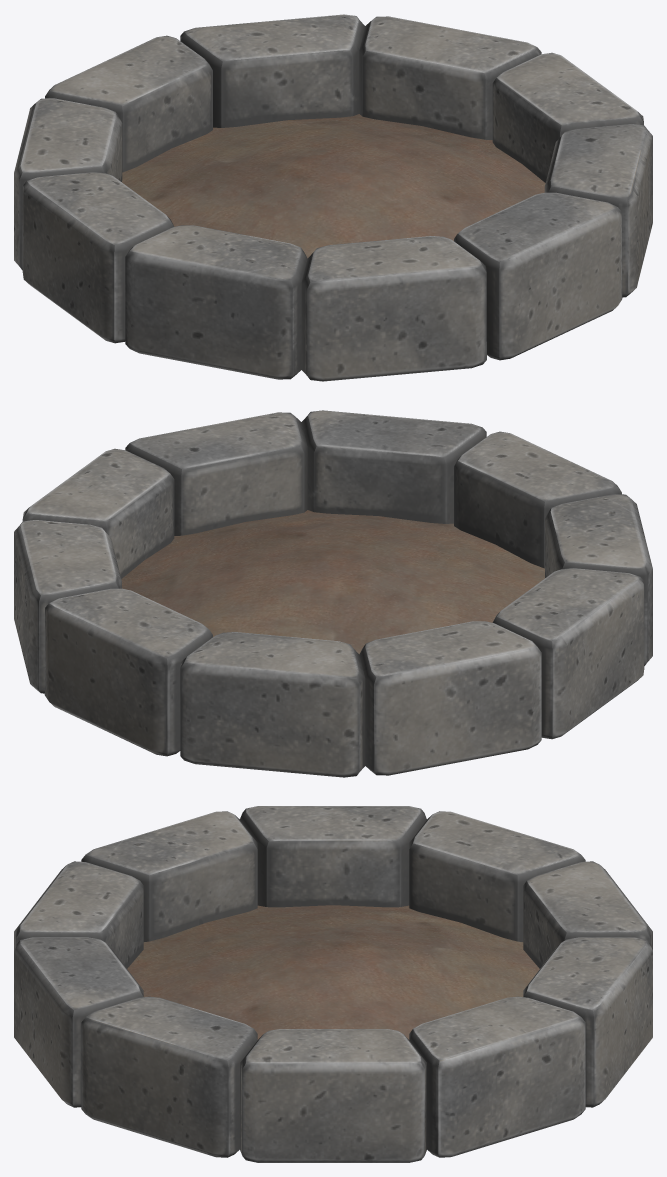
The model's file is SM_Garden.fbx.
3 views of the same model, one above another, from view 1: azimuth 30°, elevation 25°; view 2: azimuth 150°, elevation 25°; view 3: azimuth 270°, elevation 25° (orthographic).
Visible parts, largest first — view 1: SM_Garden_LOD0; view 2: SM_Garden_LOD0; view 3: SM_Garden_LOD0.
Boxes of the visible parts, box(x1,y1,x2,y2) form: SM_Garden_LOD0: box(14, 14, 652, 381); SM_Garden_LOD0: box(14, 410, 652, 777); SM_Garden_LOD0: box(14, 806, 652, 1162).
Bounding box in the file's own units: 79.22 × 81.41 × 14.73.
1 material, 1 textured.
